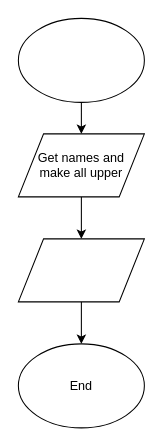
Image size: 163x446. Some labels were removed from this diagram. Each missing label, with the box of its shape:
Print first letter of the names: (17, 238, 144, 302)
Start: (17, 17, 144, 102)
